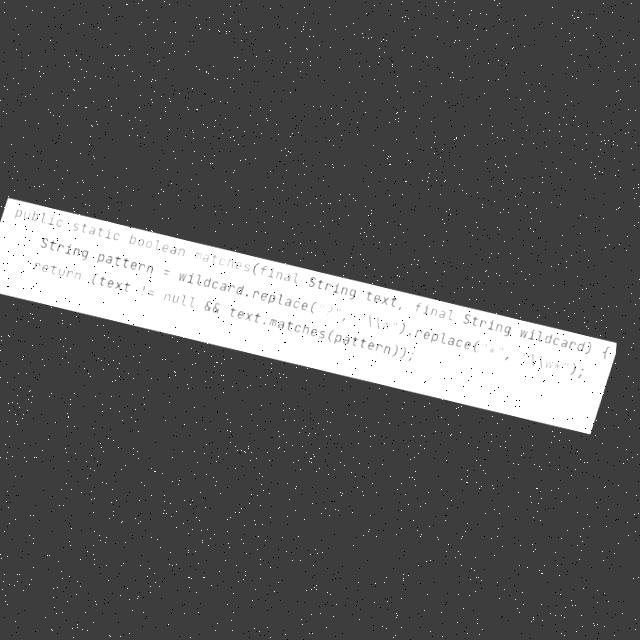code_screen: (0, 198, 617, 432)
